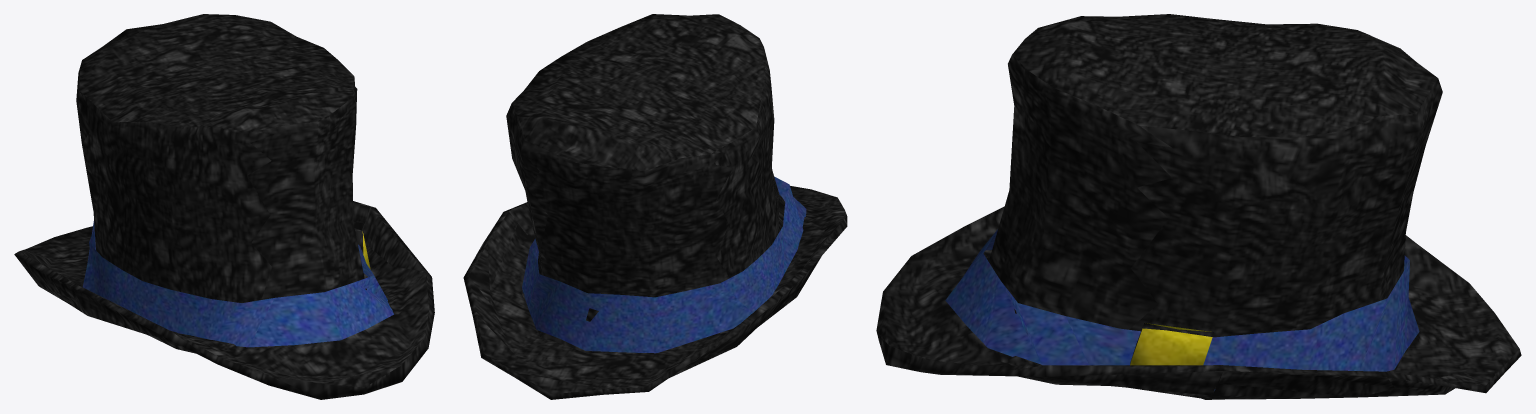
Rendered from elvs-tophat1.glb.
3 views of the same model, side by side, from view 1: azimuth 30°, elevation 25°; view 2: azimuth 150°, elevation 25°; view 3: azimuth 270°, elevation 25° (orthographic). The views are drawn at different scales.
Parts seen in each view (by area): view 1: Human.elvs_tophat1; view 2: Human.elvs_tophat1; view 3: Human.elvs_tophat1.
Part boxes in pixels (box(x1,y1,x2,y2)): Human.elvs_tophat1: box(14, 14, 434, 399); Human.elvs_tophat1: box(463, 14, 847, 399); Human.elvs_tophat1: box(876, 14, 1521, 399).
Bounding box in the file's own units: 0.2633 × 0.2097 × 0.378.
1 material, 1 textured.
